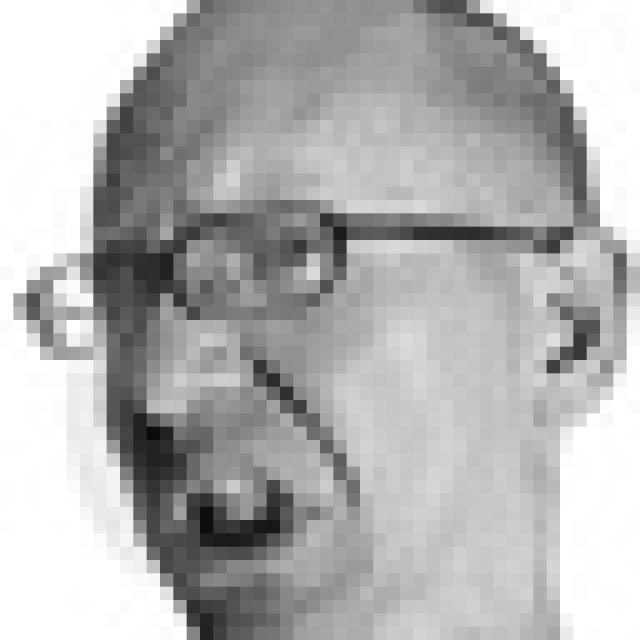disgust: (90, 195, 401, 604)
